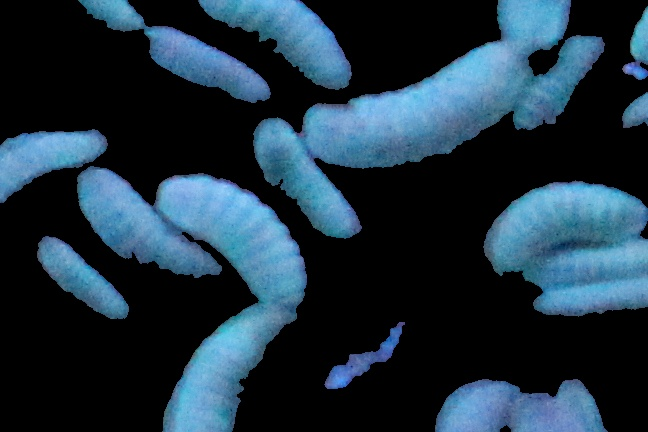larvae: (303, 44, 525, 169), (155, 169, 305, 310), (155, 303, 297, 432), (80, 164, 227, 276), (481, 175, 648, 273), (194, 1, 356, 90), (250, 117, 368, 238), (150, 22, 266, 100), (511, 38, 609, 130), (30, 235, 127, 326), (1, 130, 105, 199), (522, 241, 648, 286), (529, 276, 648, 317), (431, 378, 513, 432), (498, 1, 569, 50), (79, 1, 143, 31)
